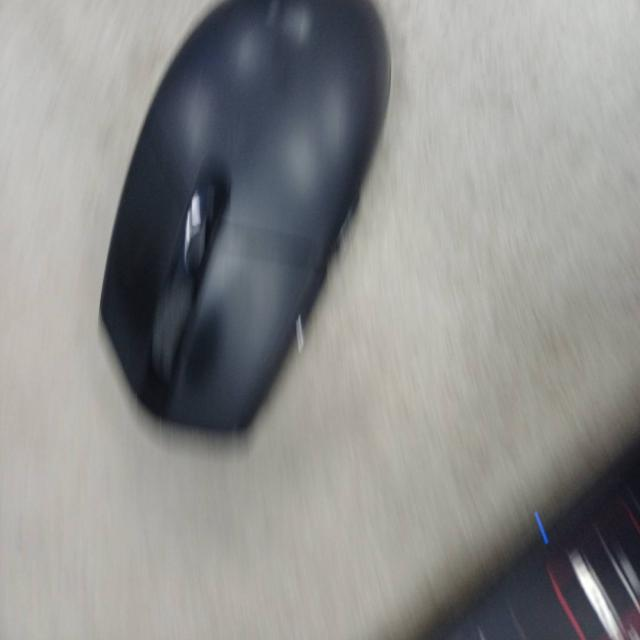mouse: (95, 0, 393, 436)
